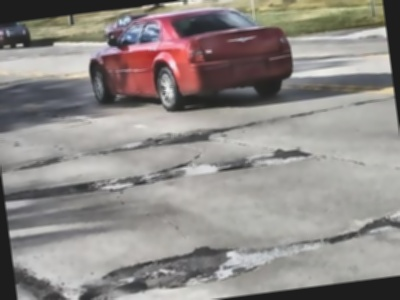pothole: (78, 240, 243, 300), (5, 171, 152, 204), (120, 125, 216, 152), (358, 212, 400, 235), (219, 158, 256, 173)
